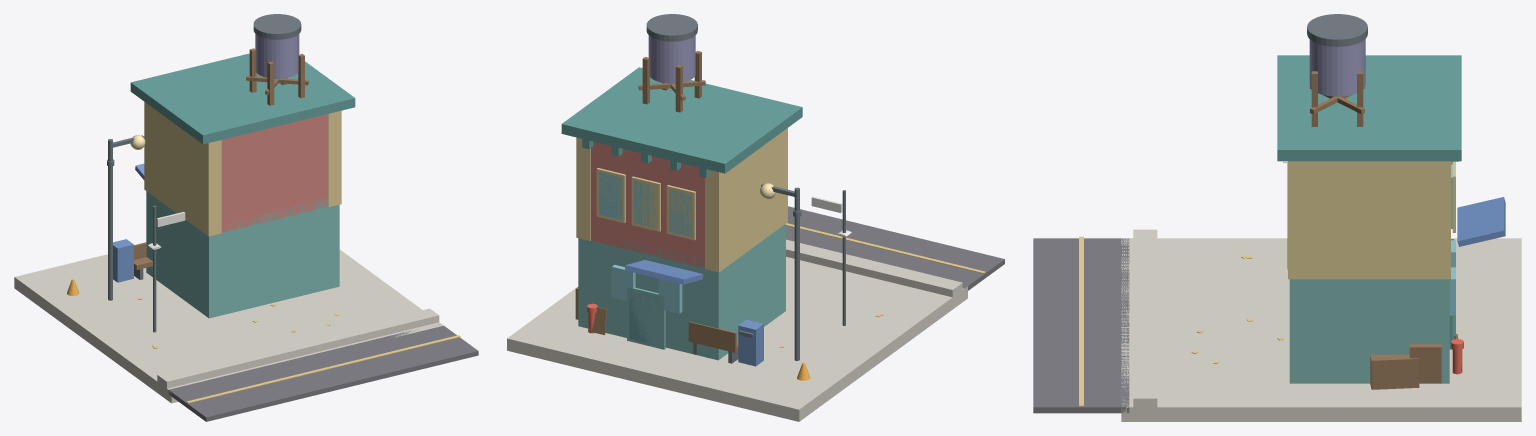
File: DeskDiorama_Building.glb
The picture shows the model from 3 angles, left to right: view 1: azimuth 30°, elevation 25°; view 2: azimuth 150°, elevation 25°; view 3: azimuth 270°, elevation 25°; orthographic projection. The views are drawn at different scales.
Visible parts, largest first — view 1: Sidewalk, GroundFloor, Road, RoofLedge, SecondFloor, BrickPillar_L, Curb, WaterTank, BrickPillar_R, TankLid, Mailbox, RoadLine (+2 smaller); view 2: Sidewalk, RoofLedge, GroundFloor, BrickPillar_L, SecondFloor, Road, Curb, DoorFrame, WaterTank, BrickPillar_R, WindowFrame2F_1, WindowFrame2F_0 (+14 smaller); view 3: Sidewalk, BrickPillar_R, RoofLedge, Road, GroundFloor, Curb, WaterTank, Awning, Crate2, TankLid, Crate1, RoadLine.
Part boxes in pixels (box(x1,y1,x2,y2)): Sidewalk: box(14, 249, 443, 403); GroundFloor: box(146, 191, 339, 318); Road: box(168, 325, 478, 421); RoofLedge: box(130, 53, 355, 144); SecondFloor: box(221, 114, 327, 232); BrickPillar_L: box(144, 102, 221, 236); Curb: box(157, 308, 439, 388); WaterTank: box(255, 34, 299, 78); BrickPillar_R: box(328, 110, 341, 207); TankLid: box(253, 14, 301, 39); Mailbox: box(113, 239, 133, 282); RoadLine: box(186, 335, 460, 403); Sidewalk: box(507, 257, 967, 421); RoofLedge: box(561, 67, 802, 173); GroundFloor: box(578, 224, 785, 360); BrickPillar_L: box(705, 128, 787, 272); SecondFloor: box(591, 141, 704, 268); Road: box(786, 206, 1004, 291); Curb: box(786, 239, 962, 297); DoorFrame: box(627, 287, 665, 349); WaterTank: box(648, 35, 695, 83); BrickPillar_R: box(576, 137, 590, 240); WindowFrame2F_1: box(631, 176, 660, 231); WindowFrame2F_0: box(666, 185, 695, 240); Sidewalk: box(1121, 238, 1521, 421); BrickPillar_R: box(1288, 161, 1450, 279); RoofLedge: box(1277, 55, 1461, 161); Road: box(1033, 238, 1129, 413); GroundFloor: box(1289, 279, 1449, 383); Curb: box(1133, 229, 1157, 407); WaterTank: box(1309, 39, 1365, 96); Awning: box(1457, 197, 1505, 246); Crate2: box(1370, 354, 1419, 389); TankLid: box(1307, 14, 1367, 46); Crate1: box(1409, 344, 1441, 383); RoadLine: box(1079, 236, 1083, 406).
Size of the model in its own units: 2.5 by 2.38 by 3.05.
